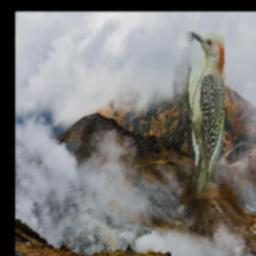Woodpecker: (173, 32, 224, 198)
